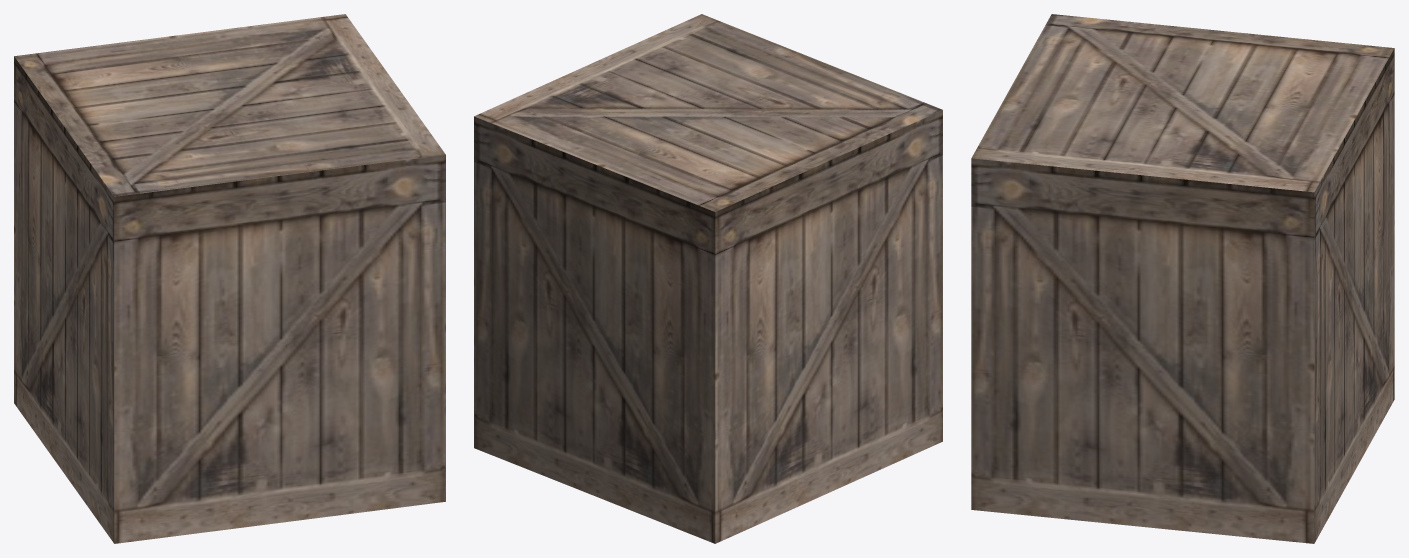
3 views of the same model, side by side, from view 1: azimuth 30°, elevation 25°; view 2: azimuth 150°, elevation 25°; view 3: azimuth 270°, elevation 25° (orthographic). The views are drawn at different scales.
Visible parts, largest first — view 1: C010_Boxs_08_0; view 2: C010_Boxs_08_0; view 3: C010_Boxs_08_0.
Boxes of the visible parts, x1=… form: C010_Boxs_08_0: x1=14, y1=14, x2=445, y2=543; C010_Boxs_08_0: x1=474, y1=14, x2=942, y2=543; C010_Boxs_08_0: x1=971, y1=14, x2=1394, y2=543.
Size of the model in its own units: 2.26 by 2.08 by 2.27.
1 material, 1 textured.
